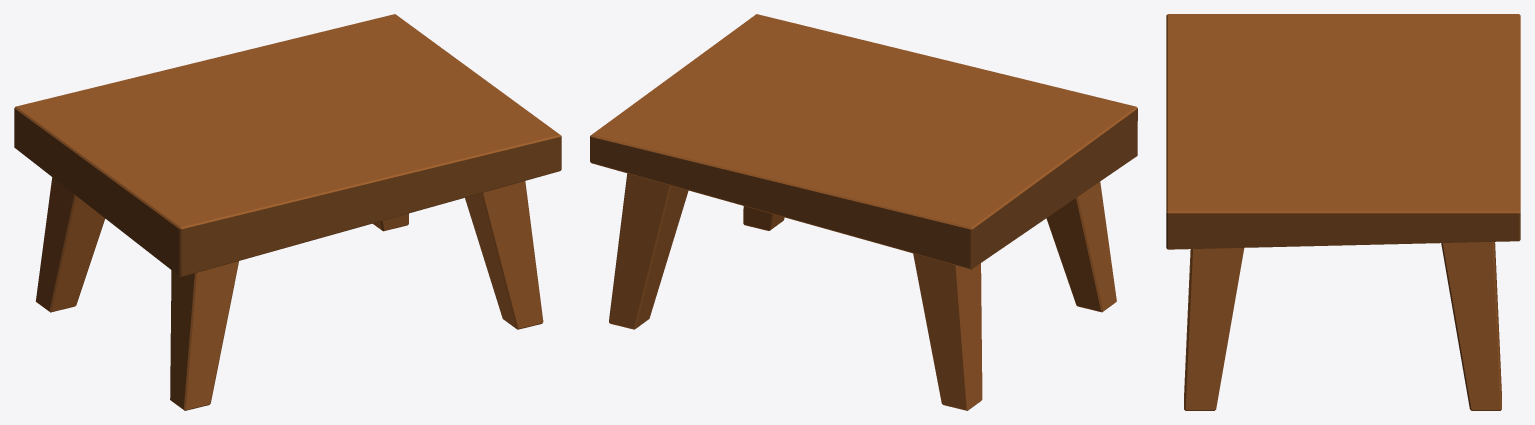
Rendered from Coffee_table.fbx.
The picture shows the model from 3 angles, left to right: view 1: azimuth 30°, elevation 25°; view 2: azimuth 150°, elevation 25°; view 3: azimuth 270°, elevation 25°; orthographic projection. The views are drawn at different scales.
Visible parts, largest first — view 1: Coffee_table; view 2: Coffee_table; view 3: Coffee_table.
Boxes of the visible parts, <box> form: Coffee_table: <box>14,14,561,410</box>; Coffee_table: <box>590,14,1137,410</box>; Coffee_table: <box>1166,14,1520,410</box>.
Bounding box in the file's own units: 1.22 × 0.5897 × 0.9243.
